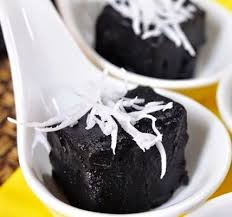kanompiakpoon: (42, 81, 202, 215)
